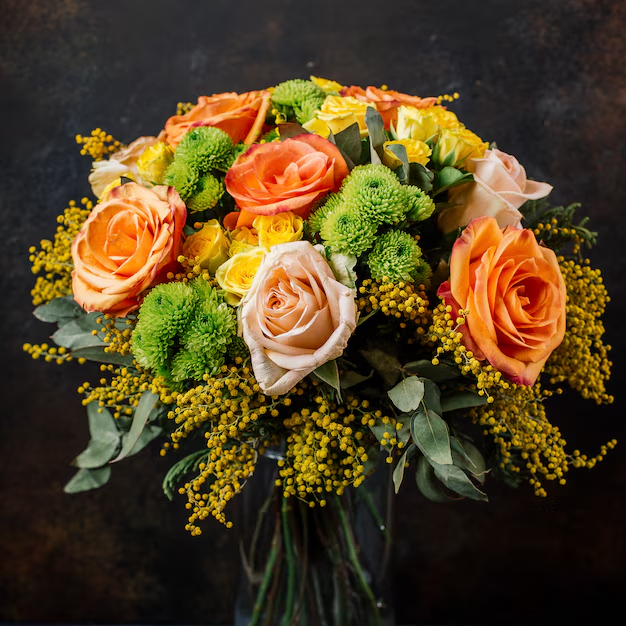Orange: (437, 215, 566, 384), (72, 185, 185, 305), (223, 134, 354, 224), (164, 91, 272, 160), (338, 86, 437, 130)
Pink: (242, 242, 358, 395), (437, 148, 552, 228)
Yellow: (302, 95, 377, 152), (215, 250, 270, 306), (184, 219, 228, 273), (437, 129, 488, 167), (253, 212, 304, 250), (391, 106, 445, 141), (383, 136, 430, 175)
